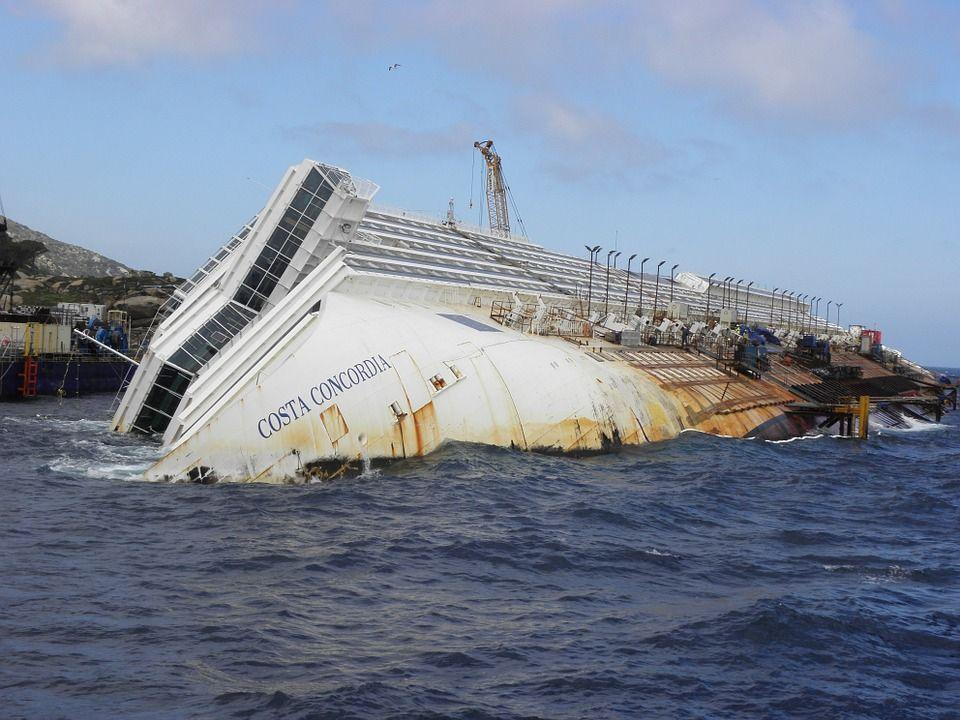rust: (658, 351, 783, 409), (567, 414, 648, 445)
